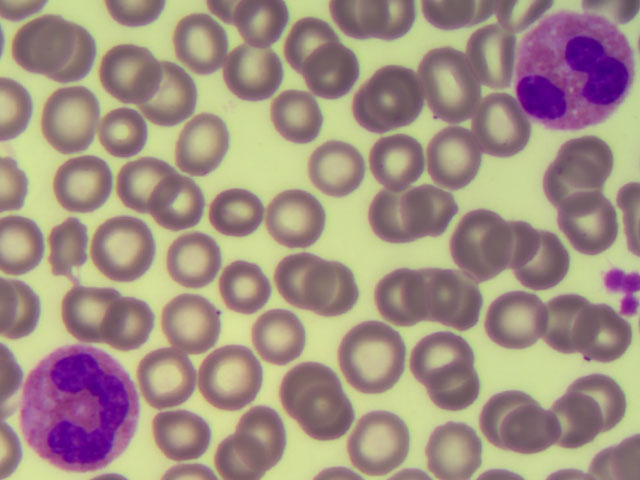Platelets: (601, 266, 640, 315)
RBC: (207, 414, 268, 480), (423, 414, 484, 480), (13, 11, 74, 76), (44, 19, 105, 84), (98, 43, 159, 108), (134, 65, 195, 130), (170, 108, 231, 173), (96, 99, 157, 164), (39, 85, 100, 150), (47, 153, 108, 218), (42, 215, 103, 280), (2, 212, 63, 277), (83, 217, 144, 282), (60, 275, 121, 340), (97, 291, 158, 356), (164, 287, 225, 352), (134, 348, 195, 413), (145, 399, 206, 464), (201, 344, 262, 409), (241, 303, 302, 368), (209, 257, 270, 322), (157, 230, 218, 295), (150, 167, 211, 232), (117, 154, 178, 219), (202, 182, 263, 247), (262, 183, 323, 248), (270, 245, 331, 310), (297, 260, 358, 325), (342, 319, 403, 384), (279, 349, 340, 414), (290, 383, 351, 448), (233, 393, 294, 458), (343, 408, 404, 473), (425, 358, 486, 423), (411, 324, 472, 389), (367, 266, 428, 331), (433, 264, 494, 329), (447, 212, 508, 277), (479, 212, 540, 277), (520, 231, 581, 296), (483, 285, 544, 350), (528, 282, 589, 347), (579, 305, 640, 370), (577, 365, 638, 430), (549, 383, 610, 448), (502, 402, 563, 467), (470, 389, 531, 454), (170, 14, 231, 79), (221, 33, 282, 98), (279, 13, 340, 78), (308, 37, 369, 102), (266, 90, 327, 155), (311, 138, 372, 203), (369, 127, 430, 192), (340, 74, 401, 139), (363, 60, 424, 125), (418, 55, 479, 120), (451, 21, 512, 86), (471, 86, 532, 151), (426, 127, 487, 192), (396, 173, 457, 238), (363, 184, 424, 249), (558, 118, 619, 183), (528, 148, 589, 213), (561, 188, 622, 253), (229, 1, 290, 65)
WBC: (18, 341, 138, 475), (517, 8, 629, 132)
